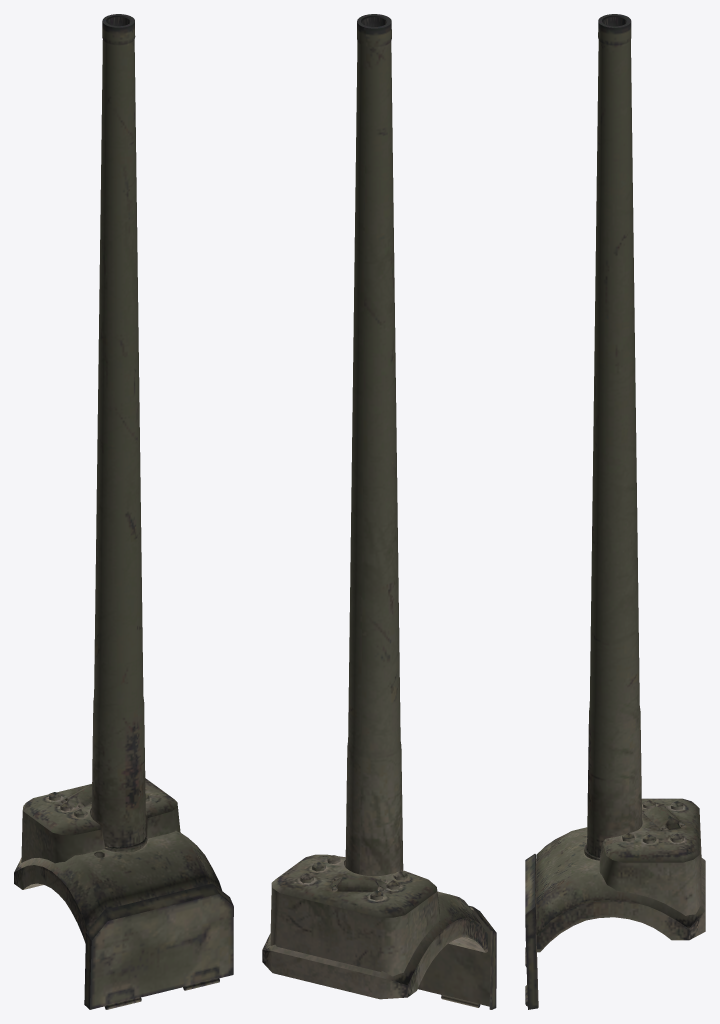
The model's file is Gun_02.glb.
3 renders of one model, left to right at view 1: azimuth 30°, elevation 25°; view 2: azimuth 150°, elevation 25°; view 3: azimuth 270°, elevation 25°, orthographic. The views are drawn at different scales.
Visible parts, largest first — view 1: set_0_group_0, set_0_group_1; view 2: set_0_group_0, set_0_group_1; view 3: set_0_group_0, set_0_group_1.
Part boxes in pixels (x1,y1,x2,y2): set_0_group_0: (14, 14, 222, 943); set_0_group_1: (84, 883, 233, 1009); set_0_group_0: (262, 14, 487, 999); set_0_group_1: (418, 906, 496, 1009); set_0_group_0: (536, 14, 705, 952); set_0_group_1: (525, 854, 538, 1009).
Bounding box in the file's own units: 0.8792 × 5.47 × 0.9362.
Materials: 2 (2 with a texture image).
